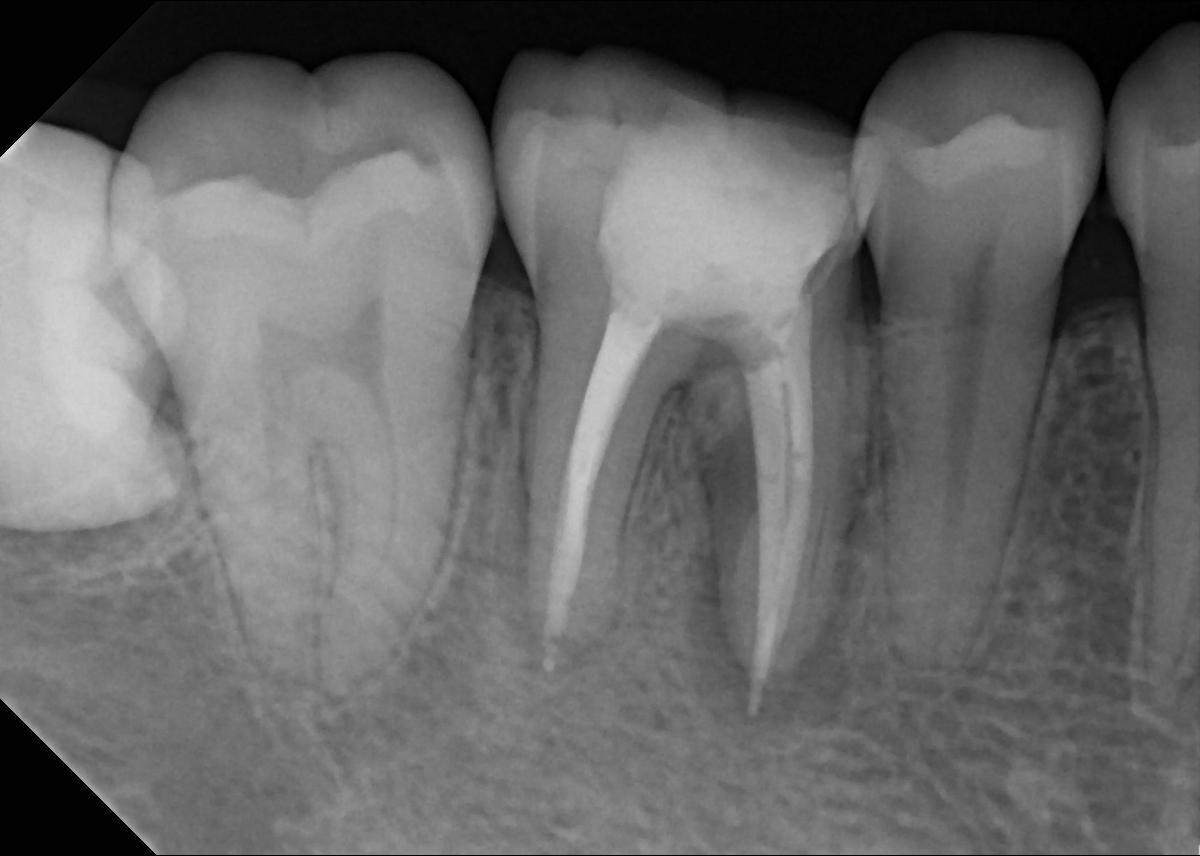Furcation Involvement: (682, 526, 858, 731)
